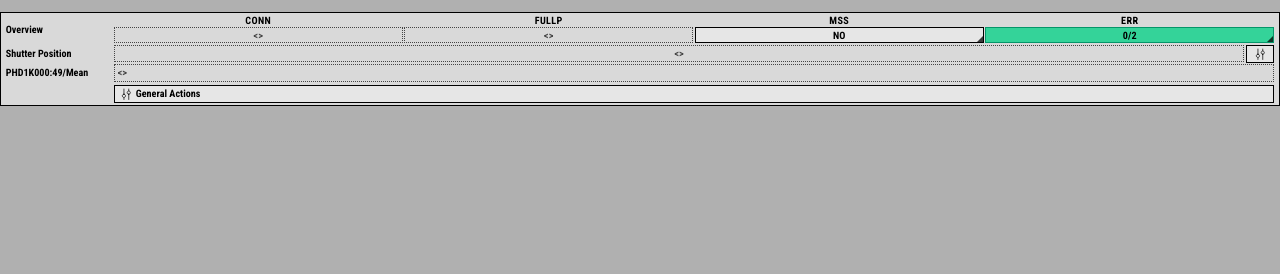
Test: GeneralSection › keeps MSS and Module Errors expanded at the same time
Click the button with aria-label "Toggle MSS detail": coordinates (839, 35) [695, 27, 984, 43]
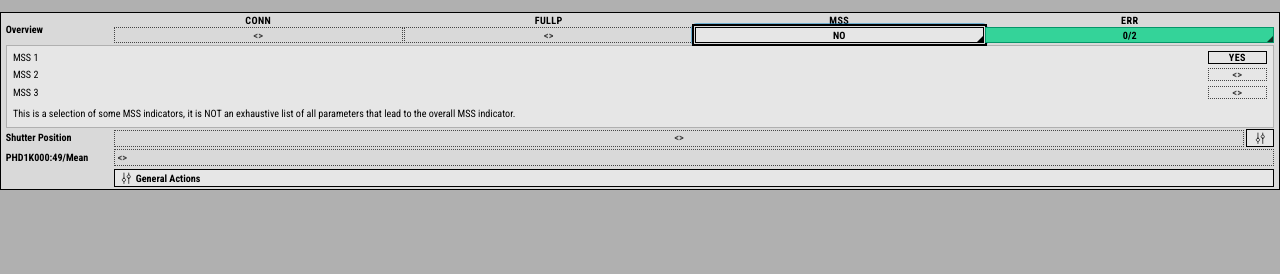
Click the button named "Toggle module errors detail": coordinates (1130, 35) [985, 27, 1274, 43]
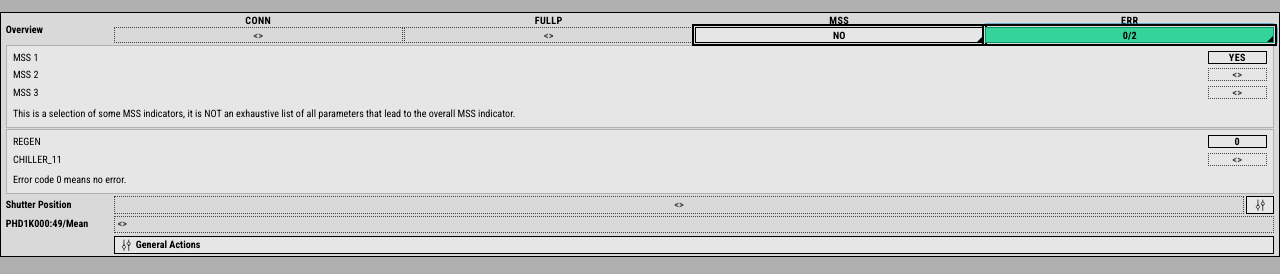
Check: the text "MSS 1" is shown, box [13, 52, 38, 62]
Check: the text "REGEN" is shown, box [13, 136, 41, 147]
# Collapsing one leaves the other alone.
Click the button with aria-label "Toggle MSS detail": coordinates (839, 35) [695, 27, 984, 43]
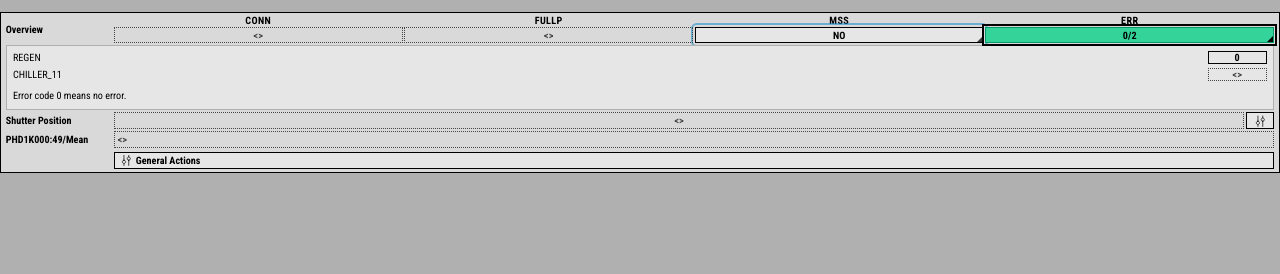
Check: the text "REGEN" is shown, box [13, 52, 41, 62]
Check: the text "MSS 1" is gone
